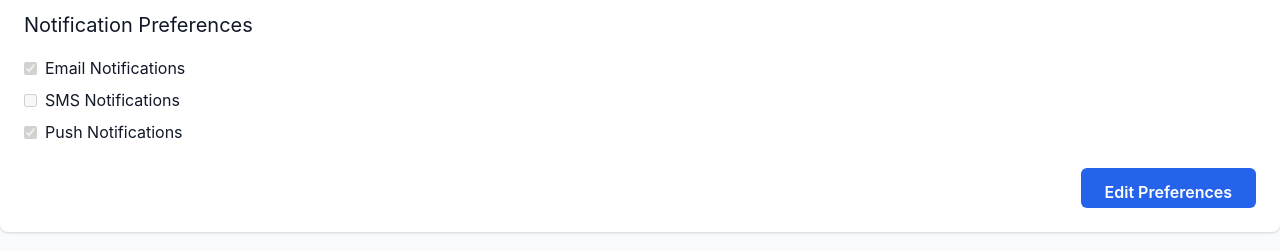
Test: NotificationPreferences Integration › should allow editing and saving preferences
Click the button "Edit Preferences" at (1168, 188), box x1=1081 y1=168 x2=1256 y2=208
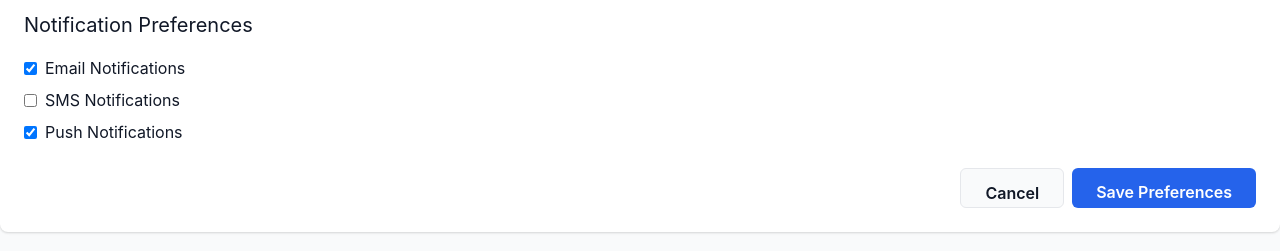
Check: the button "Save Preferences" is shown, box x1=1072 y1=168 x2=1256 y2=208
Check: the button "Cancel" is shown, box x1=960 y1=168 x2=1064 y2=208
Click the checkbox labelled "SMS Notifications" at (30, 100), box x1=24 y1=94 x2=37 y2=106
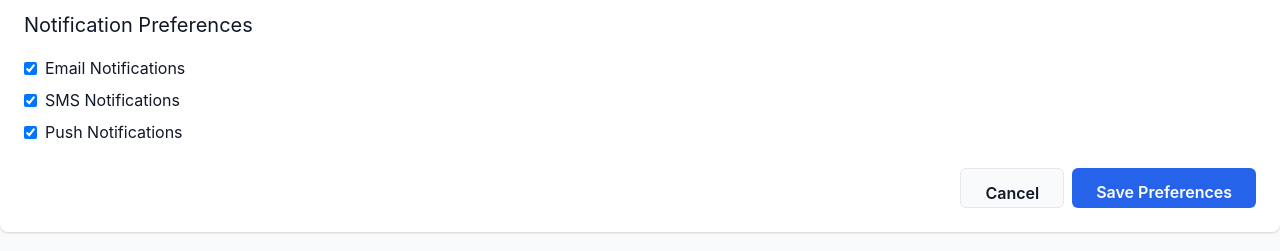
Click the button "Save Preferences" at (1164, 188), box x1=1072 y1=168 x2=1256 y2=208
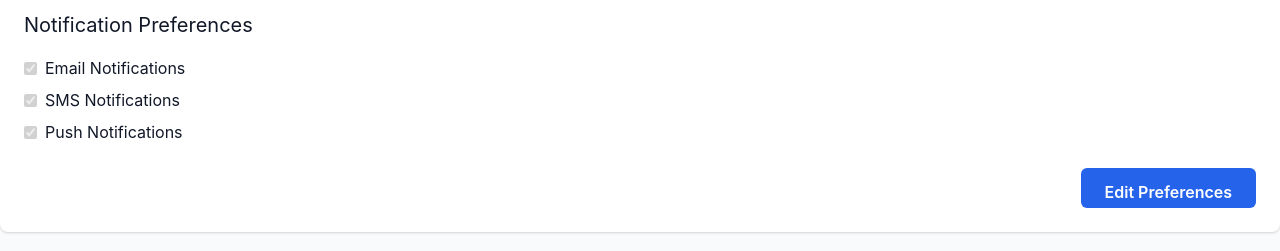
Check: the button "Save Preferences" is gone
Check: the button "Edit Preferences" is shown, box x1=1081 y1=168 x2=1256 y2=208
